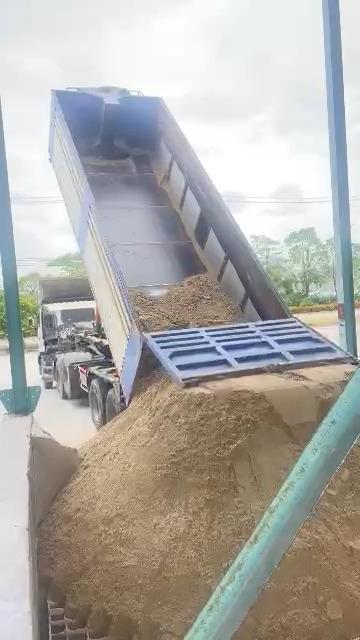sand: (41, 367, 348, 639), (236, 446, 360, 639), (129, 274, 242, 331), (32, 423, 79, 524)
